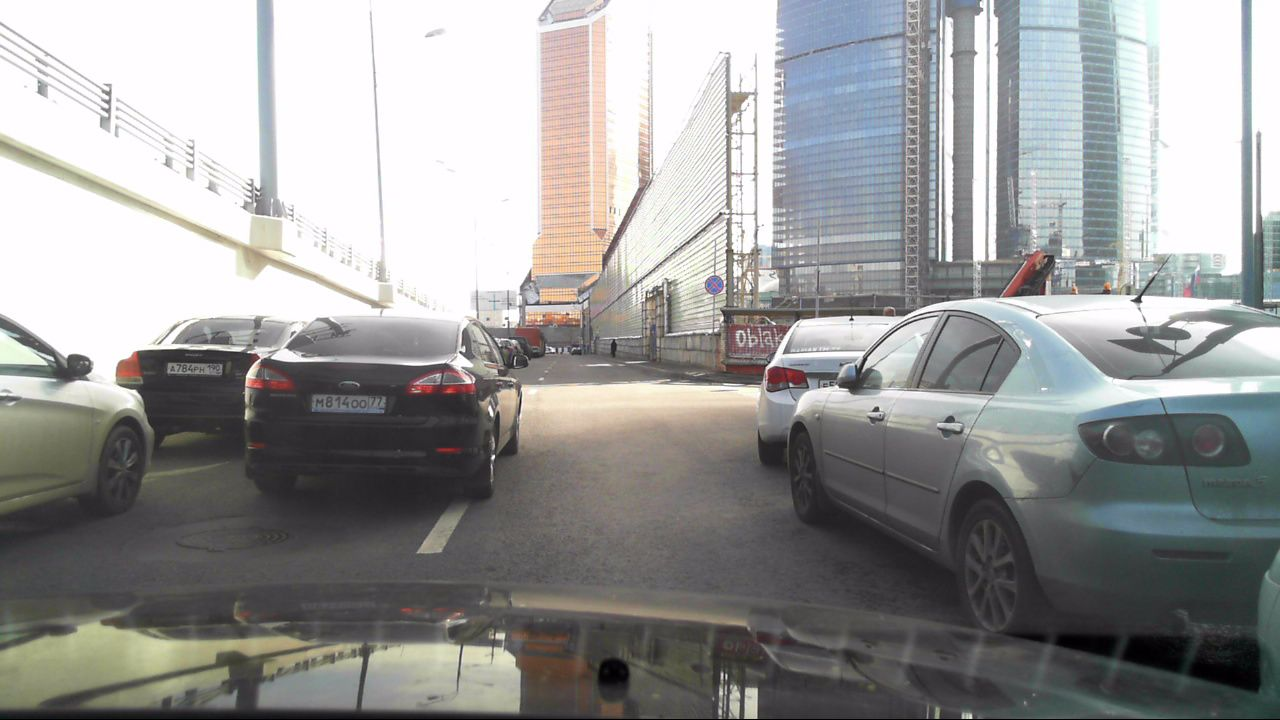No Parking: (704, 274, 724, 295)
